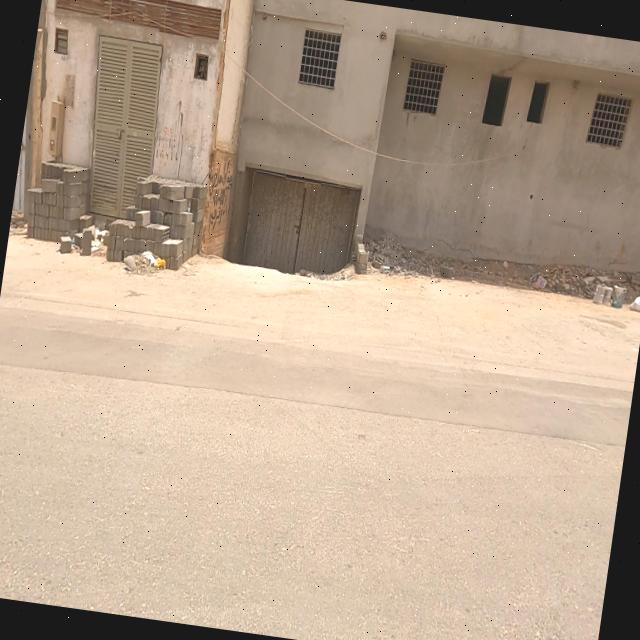Graffiti: (201, 156, 239, 248)
